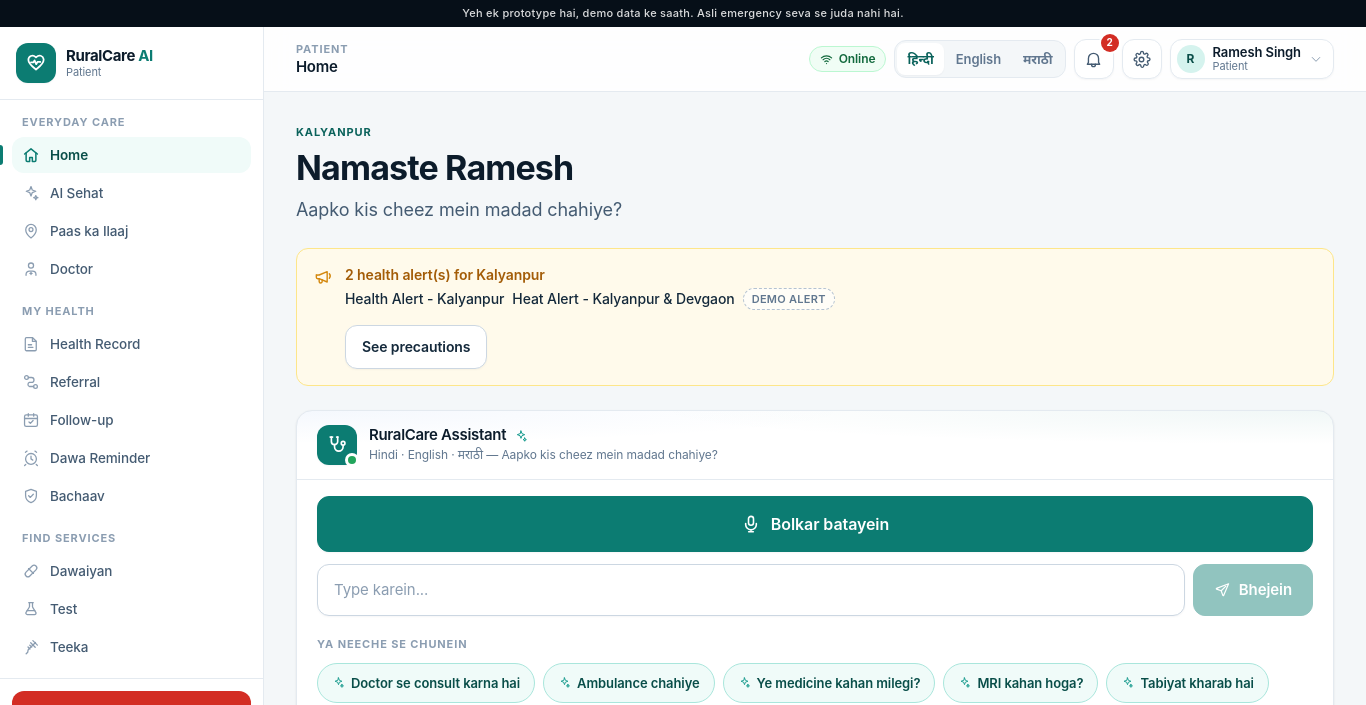
Scenario: Scenario 2 - "Ambulance chahiye" through the UI › switches to emergency mode with ambulance, hospital and ASHA details
Type "Ambulance chahiye" into the field with placeholder "Type karein...".
click(751, 590); type("Ambulance chahiye")  # box [317,564,1185,616]
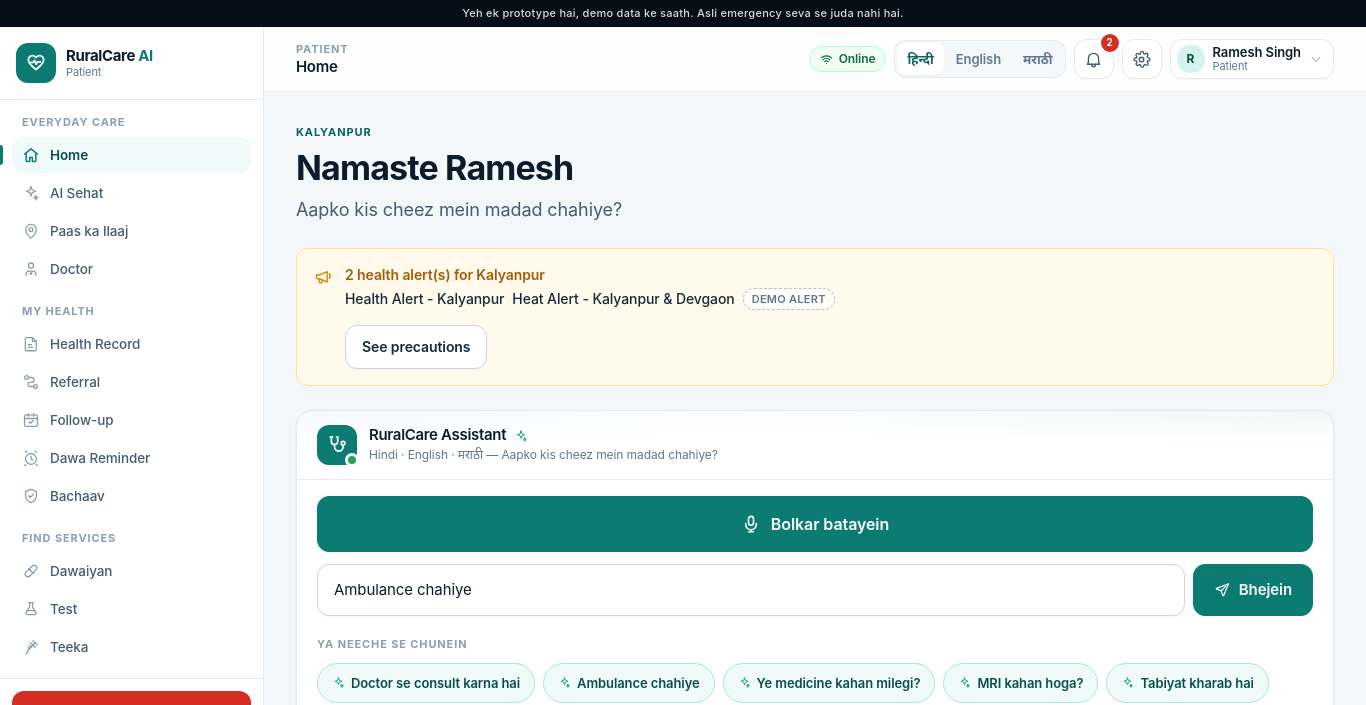
Click the button "Bhejein".
click(1253, 590)  # box [1193,564,1313,616]
(page scrolled)
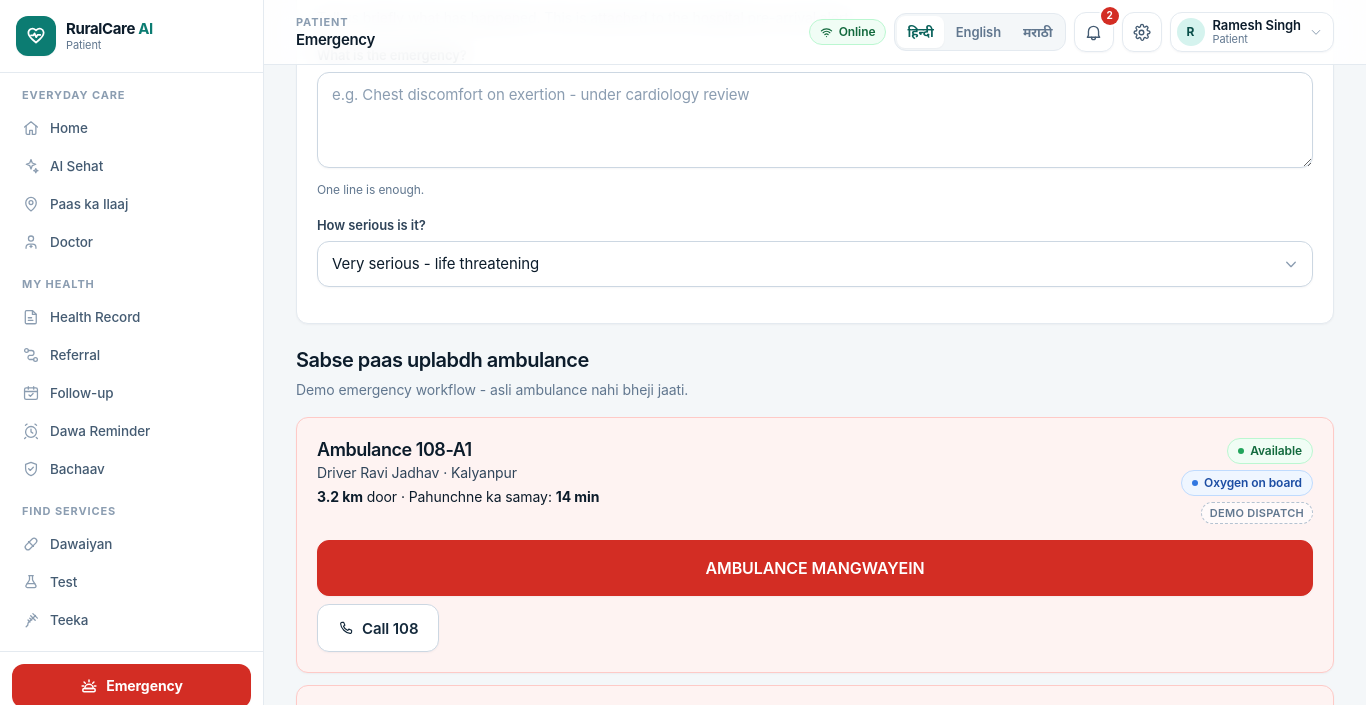
Expected: the text "3.2 km door · Pahunchne ka samay: 14 min" is shown, [317,487,599,507]
Result: the heading "Ambulance 108-A1" is shown at [317,439,472,460]
Result: the button "AMBULANCE MANGWAYEIN" is shown at [317,540,1313,596]
